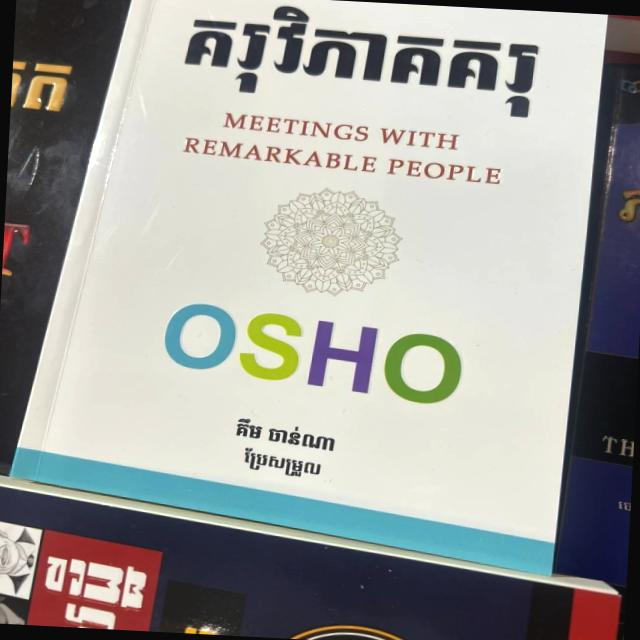1: (228, 407, 336, 462)
Yolov11_80vkh: (166, 0, 547, 124), (230, 446, 327, 485)
